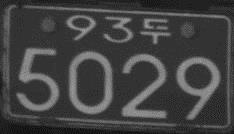0: (67, 50, 113, 115)
2: (120, 52, 167, 119)
3: (102, 14, 133, 43)
5: (15, 47, 60, 112)
9: (175, 55, 221, 119), (65, 14, 96, 41)
두: (140, 17, 171, 45)
